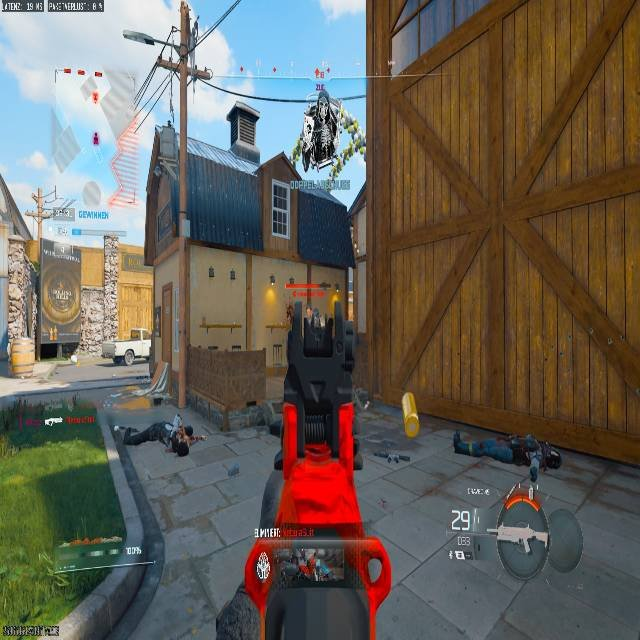head: (542, 444, 561, 471), (168, 439, 190, 456)
